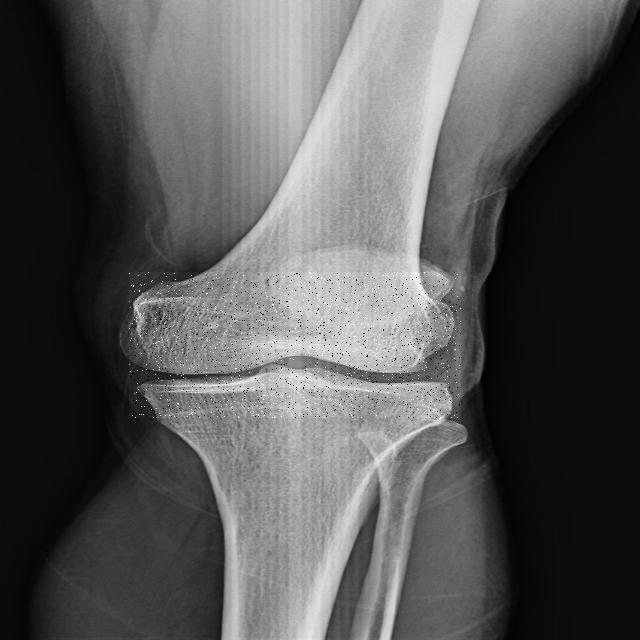osteo: (129, 272, 461, 418)
